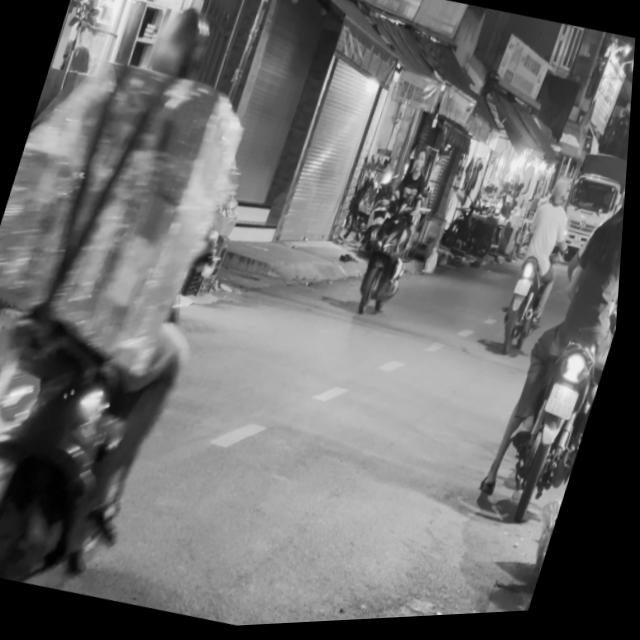helmet: (135, 0, 217, 100), (615, 170, 630, 235)
licenseplate: (0, 0, 301, 603), (477, 148, 631, 531), (348, 141, 446, 326)
motorcyclist: (410, 148, 432, 180)
nohelmet: (548, 384, 585, 424), (0, 449, 19, 521)
